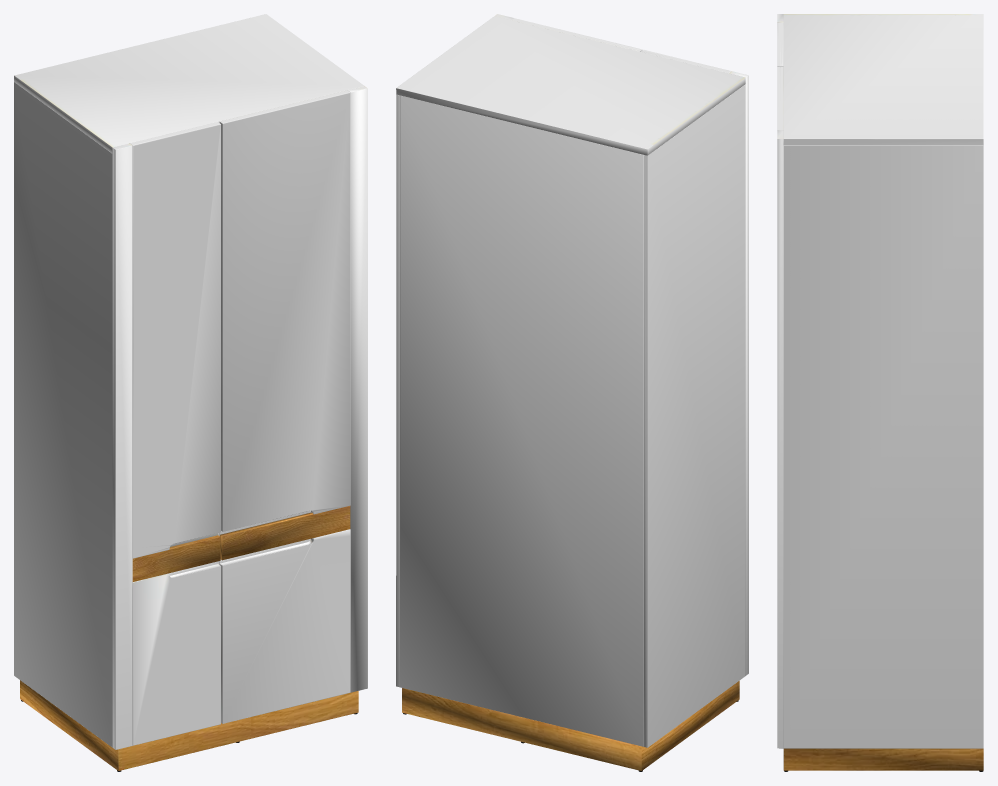
Rendered from B07JGMW8DG.glb.
3 renders of one model, left to right at view 1: azimuth 30°, elevation 25°; view 2: azimuth 150°, elevation 25°; view 3: azimuth 270°, elevation 25°, orthographic.
Visible parts, largest first — view 1: RootNode; view 2: RootNode; view 3: RootNode.
Boxes of the visible parts, x1,y1,x2,y2 form: RootNode: (14, 14, 367, 771); RootNode: (396, 14, 748, 771); RootNode: (777, 14, 983, 771).
Bounding box in the file's own units: 0.86 × 2.04 × 0.6.
Materials: 1 (1 with a texture image).
